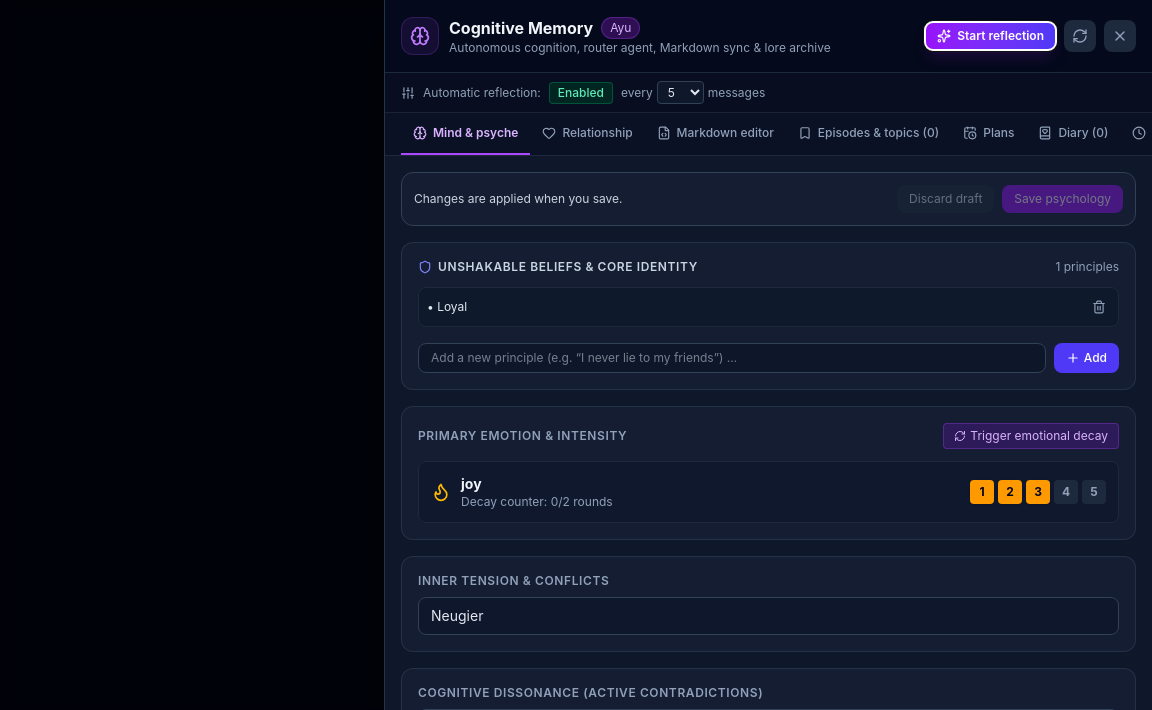
Test: CognitiveMemoryDrawer › keeps a failed psychology draft and saves all changes together on retry
The image size is (1152, 710).
Replace the text in the field named "Inner tension & conflicts" with "Conflict": (768, 616) [418,597,1119,635]
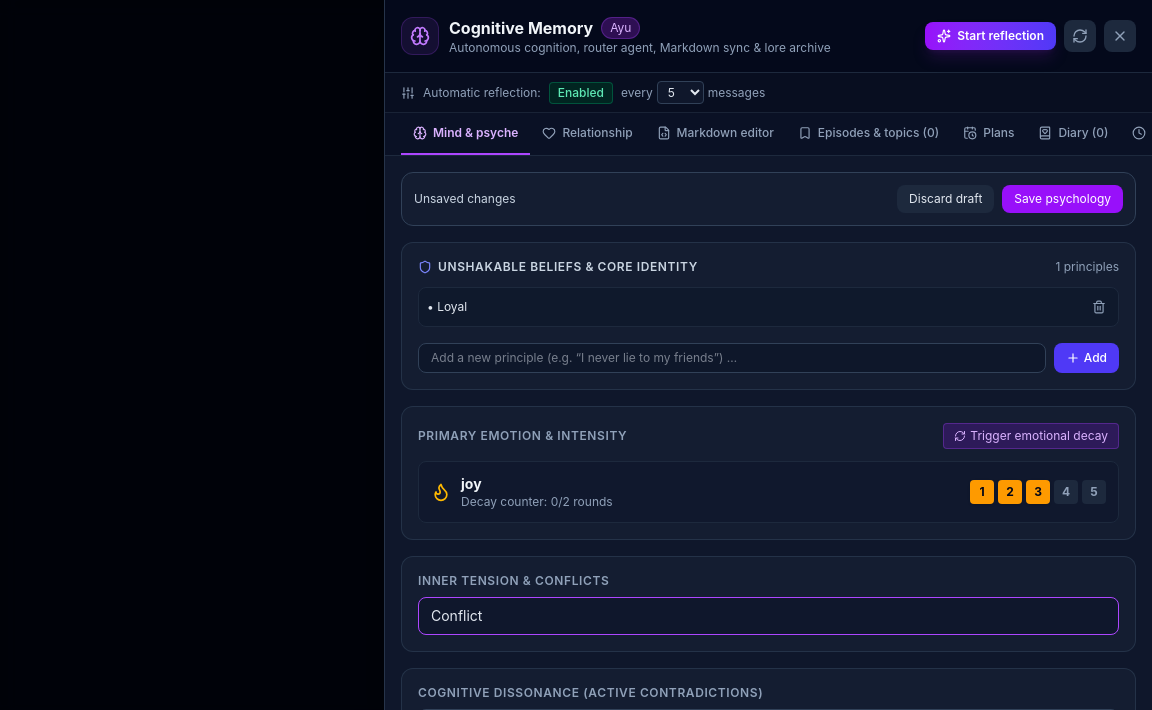
Click the button "5": click(1094, 492) [1082,480,1106,504]
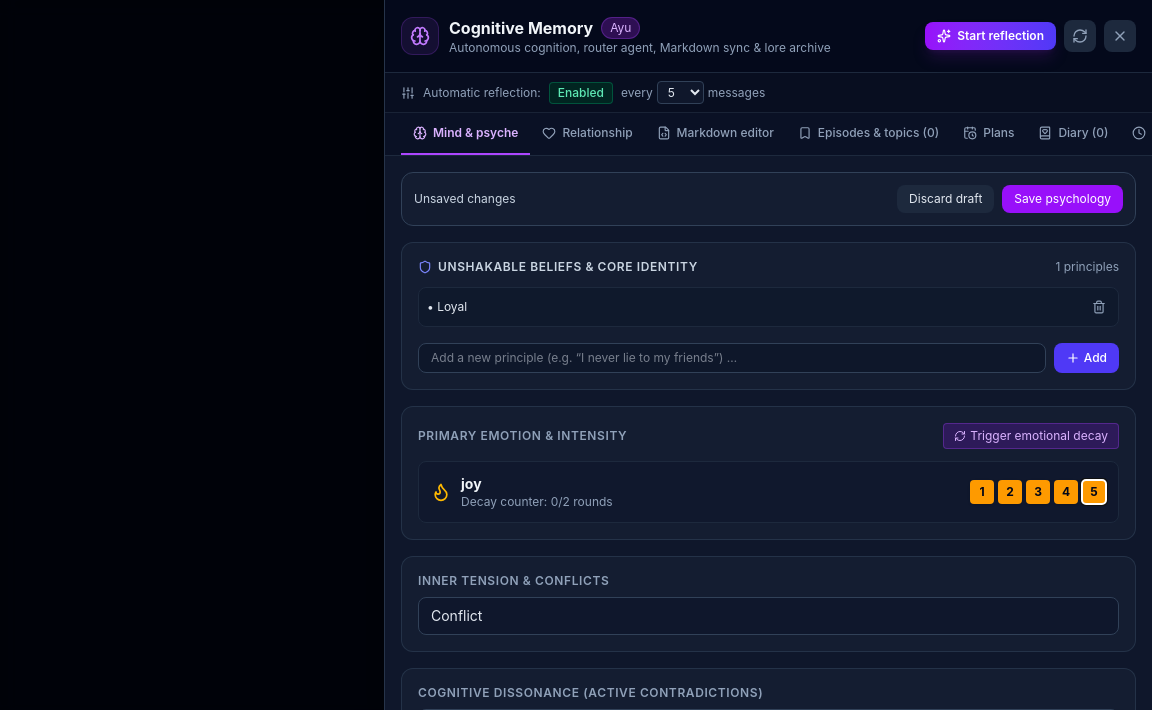
Click the button "Save psychology": click(1063, 199) [1002,185,1123,213]
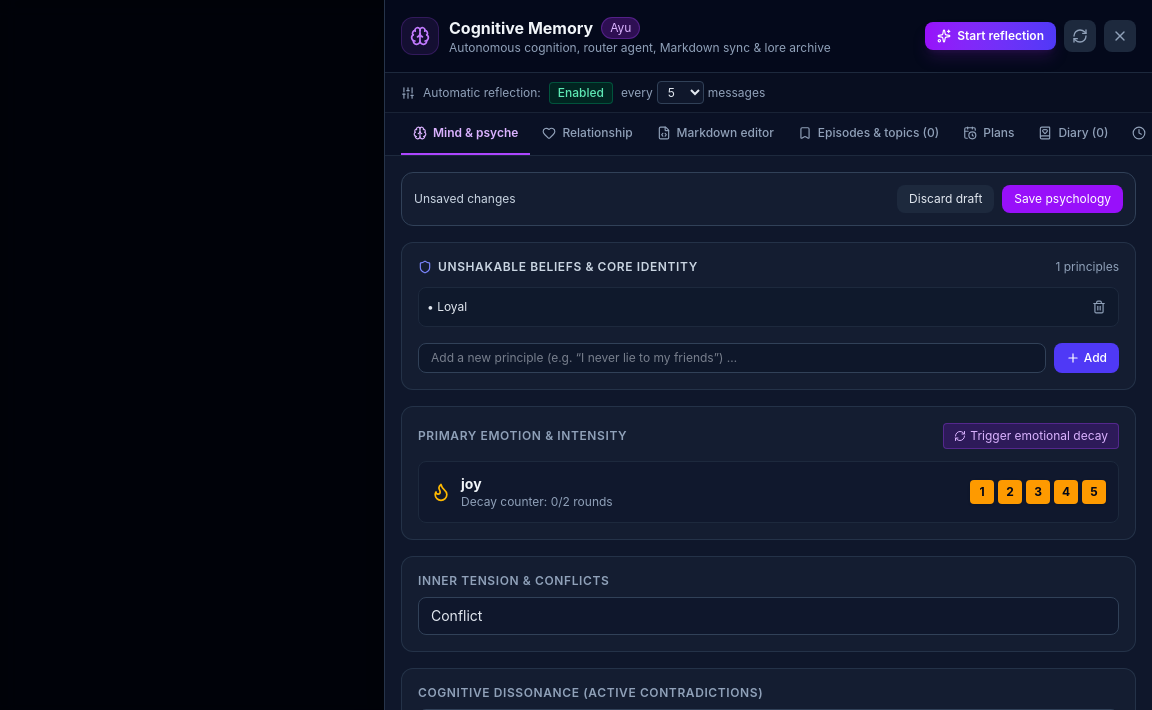
Result: the button "Save psychology" is enabled
Click the button "Save psychology": click(1063, 199) [1002,185,1123,213]
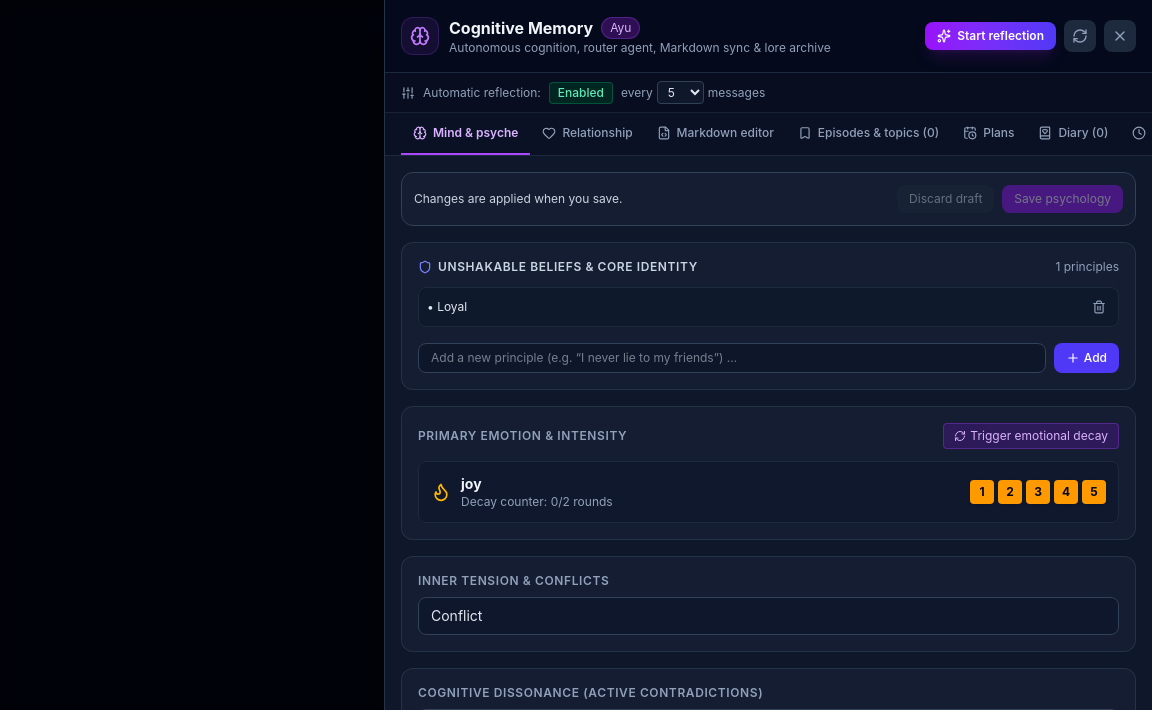
Result: the button "Save psychology" is disabled at [1002,185,1123,213]
